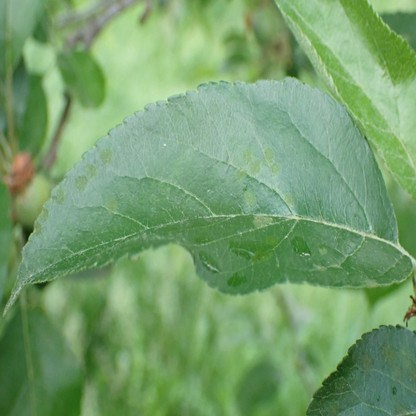powdery_mildew: (6, 280, 25, 308)
scab: (253, 214, 273, 229), (380, 343, 396, 361), (262, 147, 275, 167), (391, 360, 402, 382), (249, 161, 262, 177), (361, 354, 373, 371), (400, 347, 411, 364), (85, 164, 98, 178), (243, 192, 255, 207), (107, 196, 117, 213), (75, 175, 87, 189), (55, 184, 63, 205), (101, 148, 111, 164), (283, 192, 294, 205), (406, 366, 415, 381), (271, 163, 280, 177), (236, 166, 246, 178), (41, 208, 50, 221), (34, 222, 42, 236), (313, 263, 325, 272), (242, 152, 252, 162), (366, 280, 378, 288), (318, 249, 327, 257)
